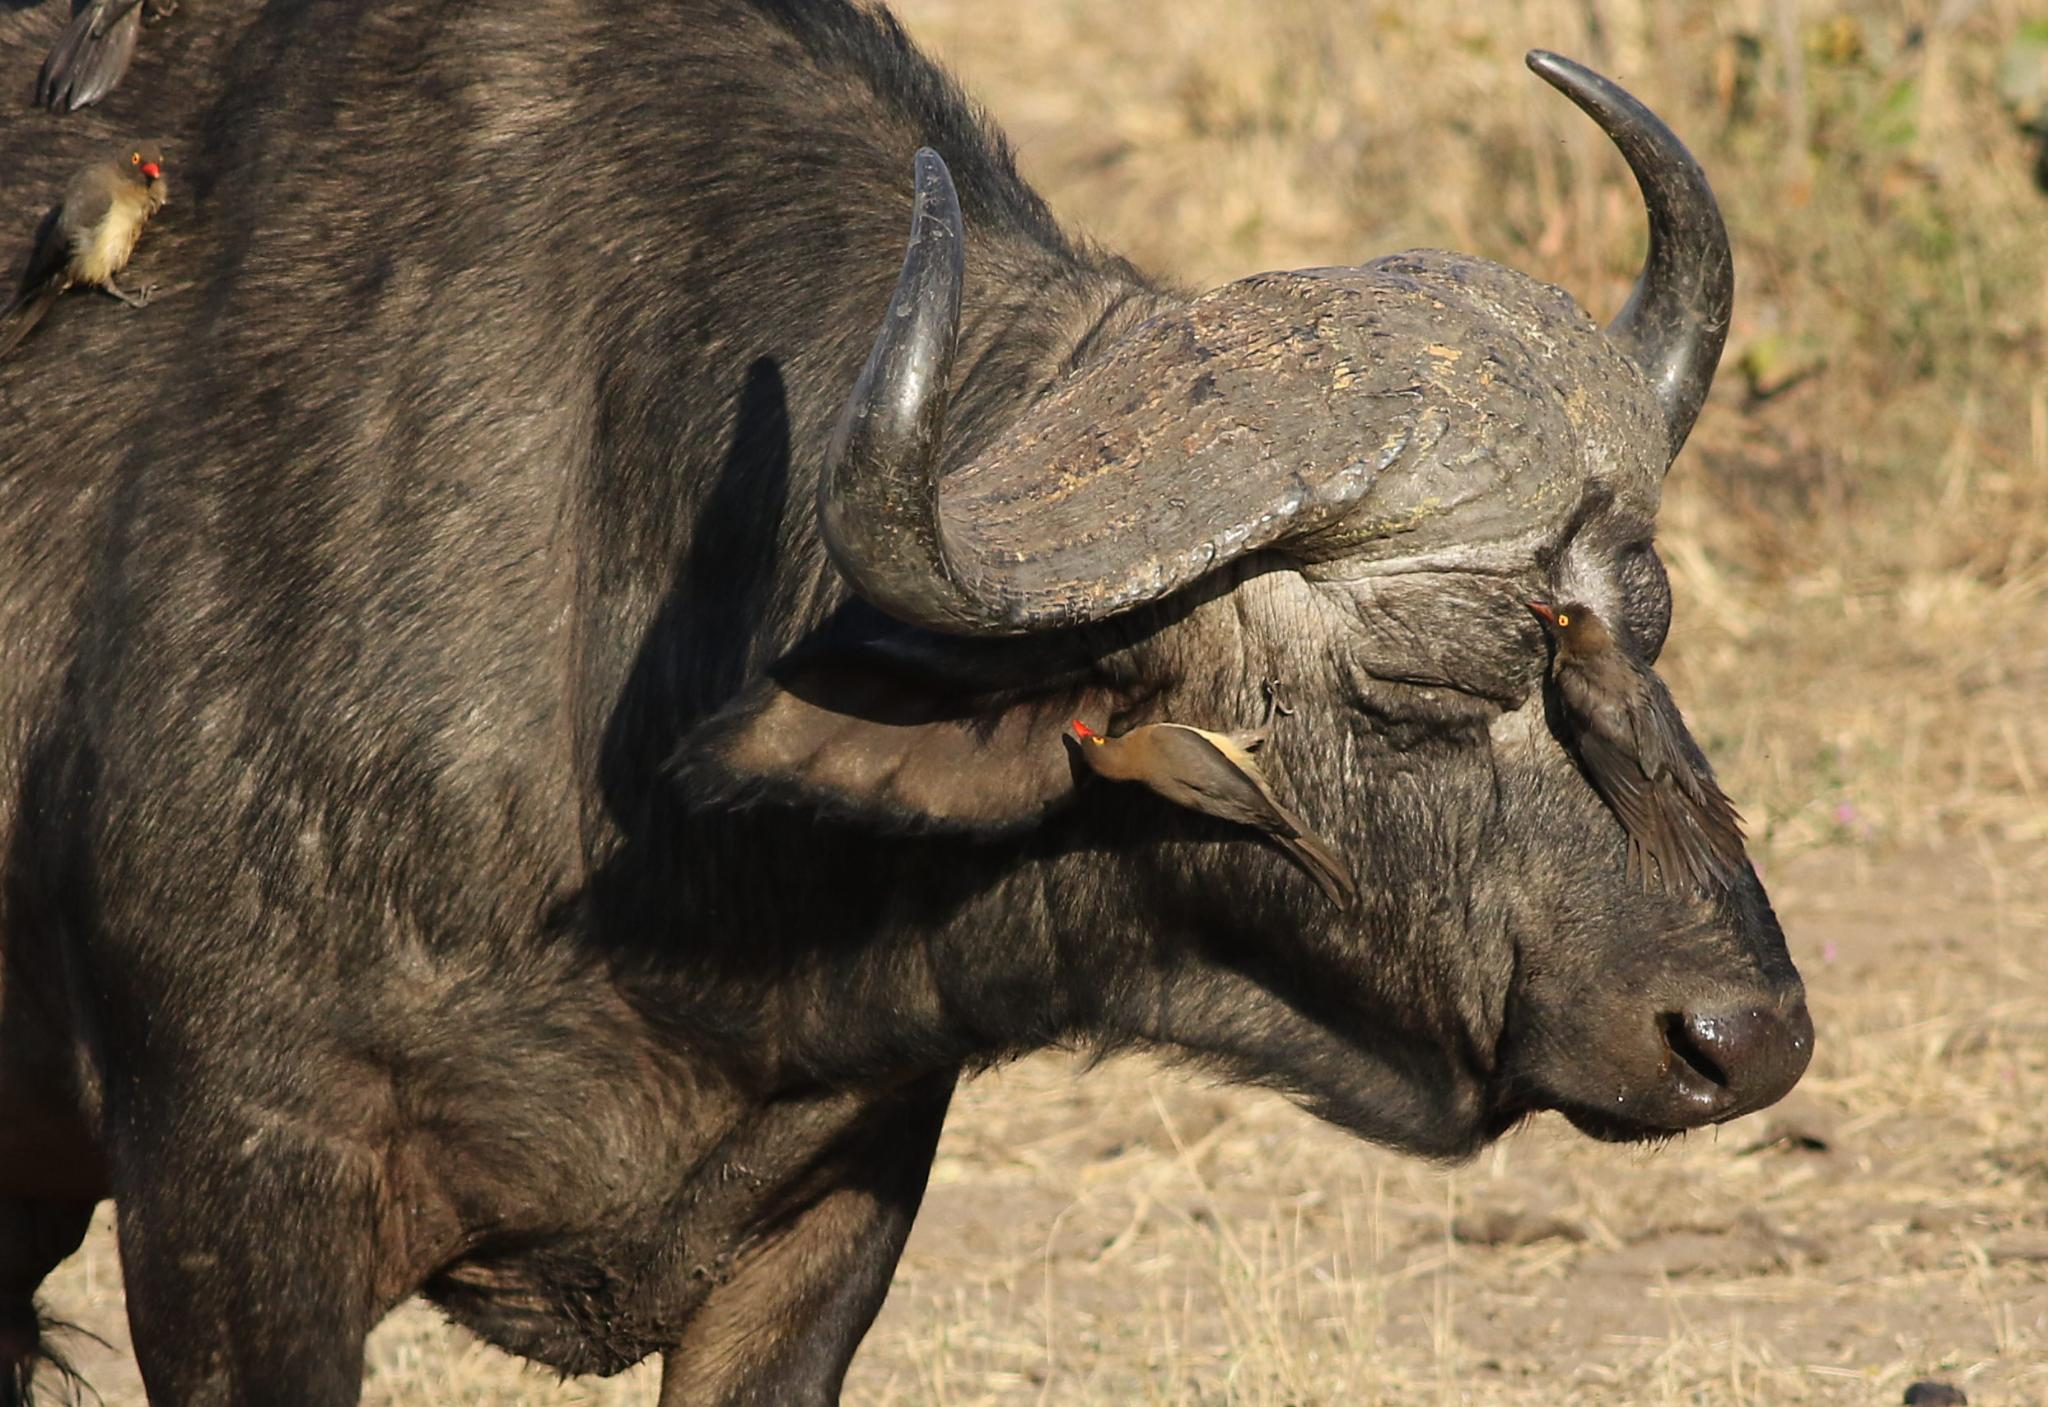Buffalo: (0, 12, 2048, 1407)
